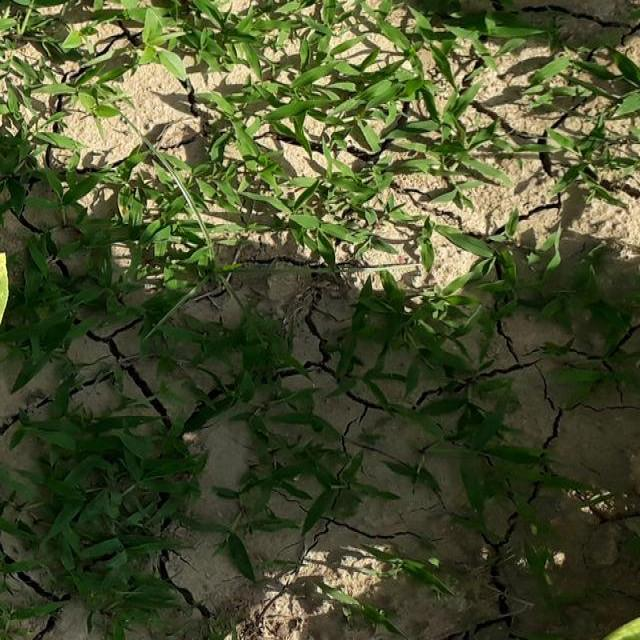weed: (6, 16, 458, 321), (411, 306, 639, 640), (0, 393, 201, 616), (505, 0, 627, 217), (249, 356, 361, 556), (436, 303, 458, 321)
